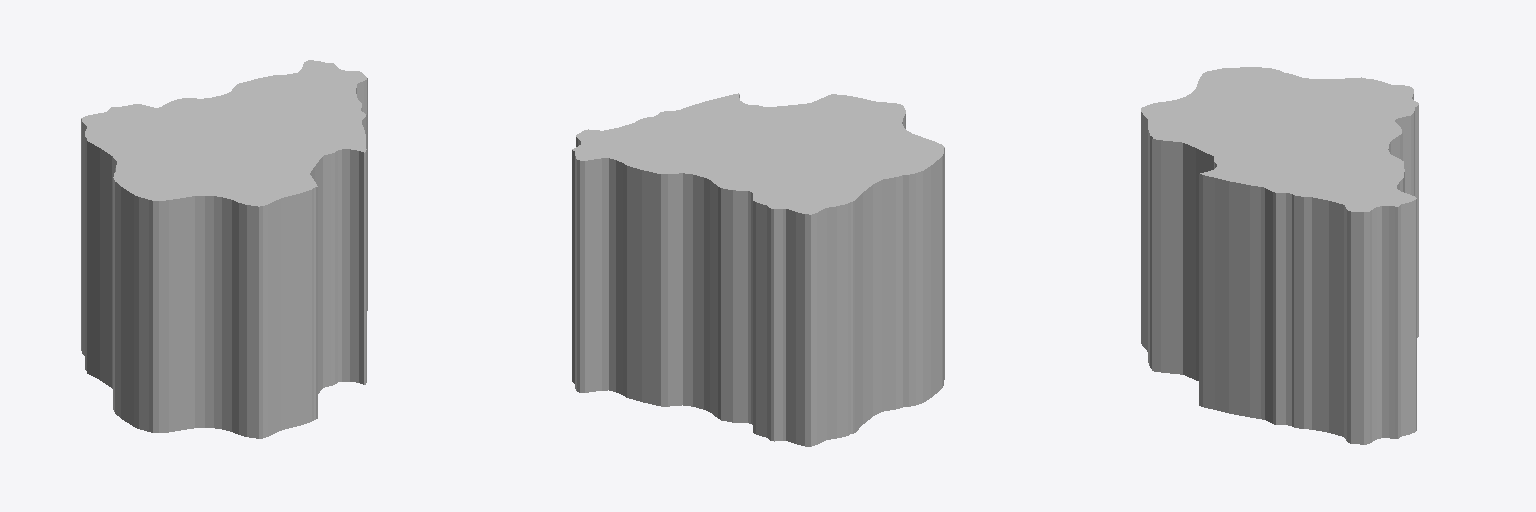
3 renders of one model, left to right at view 1: azimuth 30°, elevation 25°; view 2: azimuth 150°, elevation 25°; view 3: azimuth 270°, elevation 25°, orthographic.
Parts seen in each view (by area): view 1: NG.002_CUCurve.1866; view 2: NG.002_CUCurve.1866; view 3: NG.002_CUCurve.1866.
Part boxes in pixels (left/top/right/bottom): NG.002_CUCurve.1866: left=81, top=60, right=367, bottom=438; NG.002_CUCurve.1866: left=572, top=93, right=944, bottom=446; NG.002_CUCurve.1866: left=1141, top=67, right=1418, bottom=444.
Bounding box in the file's own units: 0.0671 × 0.05 × 0.0544.